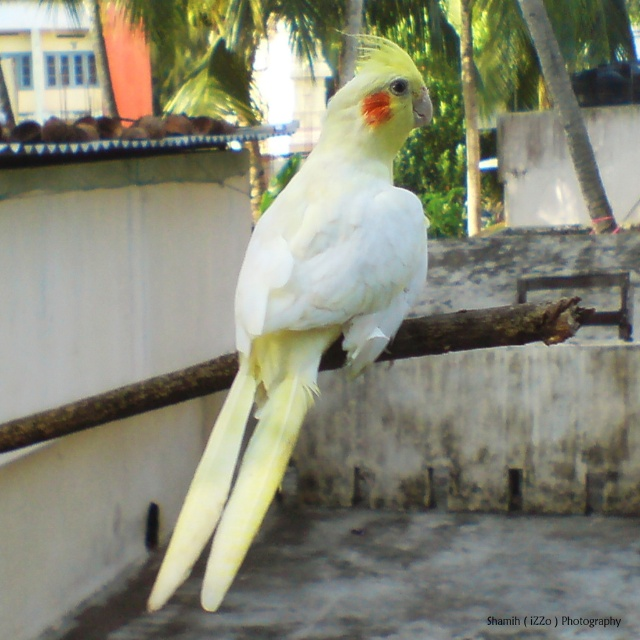Parrot: (146, 33, 433, 612)
